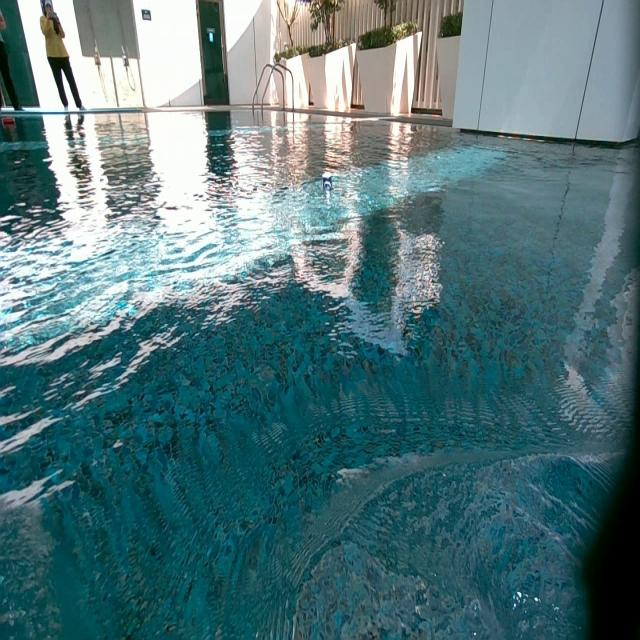Cans: (321, 173, 333, 189)
